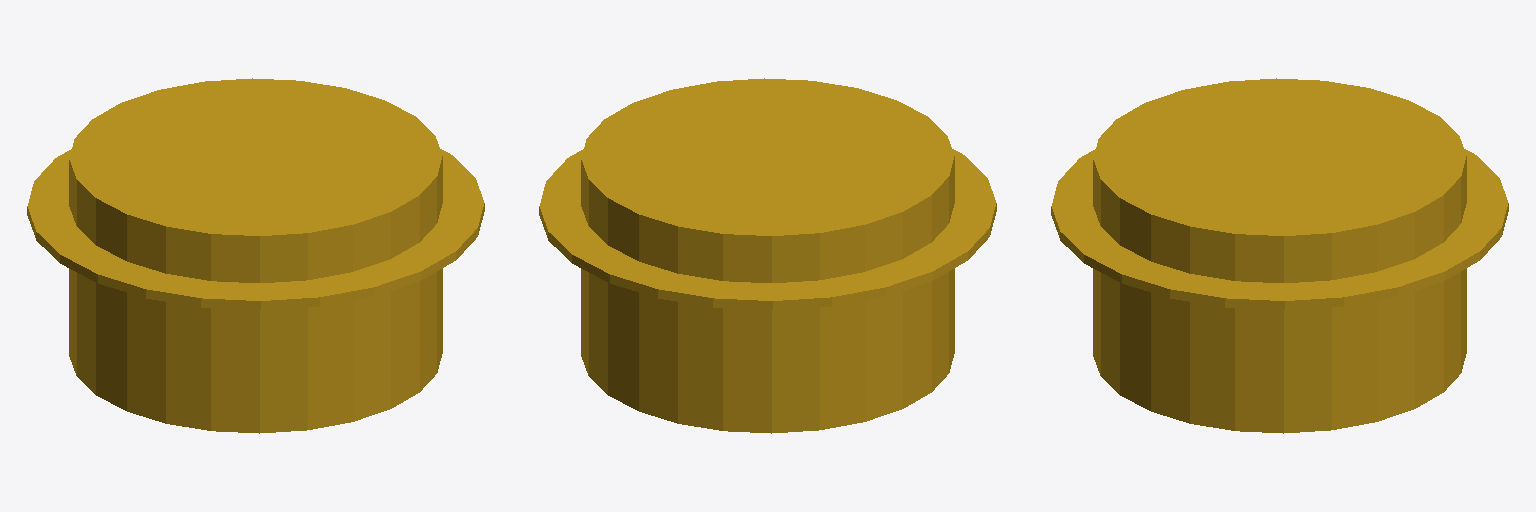
The model's file is original-1.obj.
3 views of the same model, side by side, from view 1: azimuth 30°, elevation 25°; view 2: azimuth 150°, elevation 25°; view 3: azimuth 270°, elevation 25° (orthographic).
Parts seen in each view (by area): view 1: Group1/mesh1/mesh1-geometry#mesh1-geometry; view 2: Group1/mesh1/mesh1-geometry#mesh1-geometry; view 3: Group1/mesh1/mesh1-geometry#mesh1-geometry.
Boxes of the visible parts, <box> form: Group1/mesh1/mesh1-geometry#mesh1-geometry: <box>27,78,484,433</box>; Group1/mesh1/mesh1-geometry#mesh1-geometry: <box>539,78,996,433</box>; Group1/mesh1/mesh1-geometry#mesh1-geometry: <box>1051,78,1508,433</box>.
Size of the model in its own units: 0.2963 by 0.1411 by 0.2963.